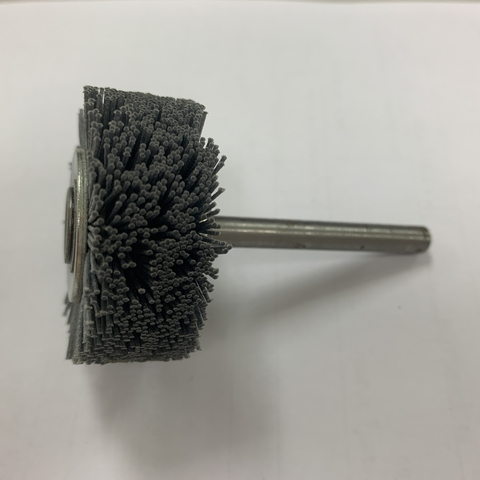Wheel Brush: (52, 82, 439, 379), (33, 80, 448, 307), (24, 69, 323, 350), (71, 44, 256, 410)
